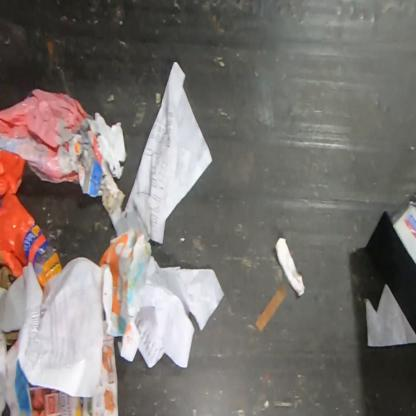soft_plastic: (0, 88, 92, 294), (367, 188, 415, 277)
